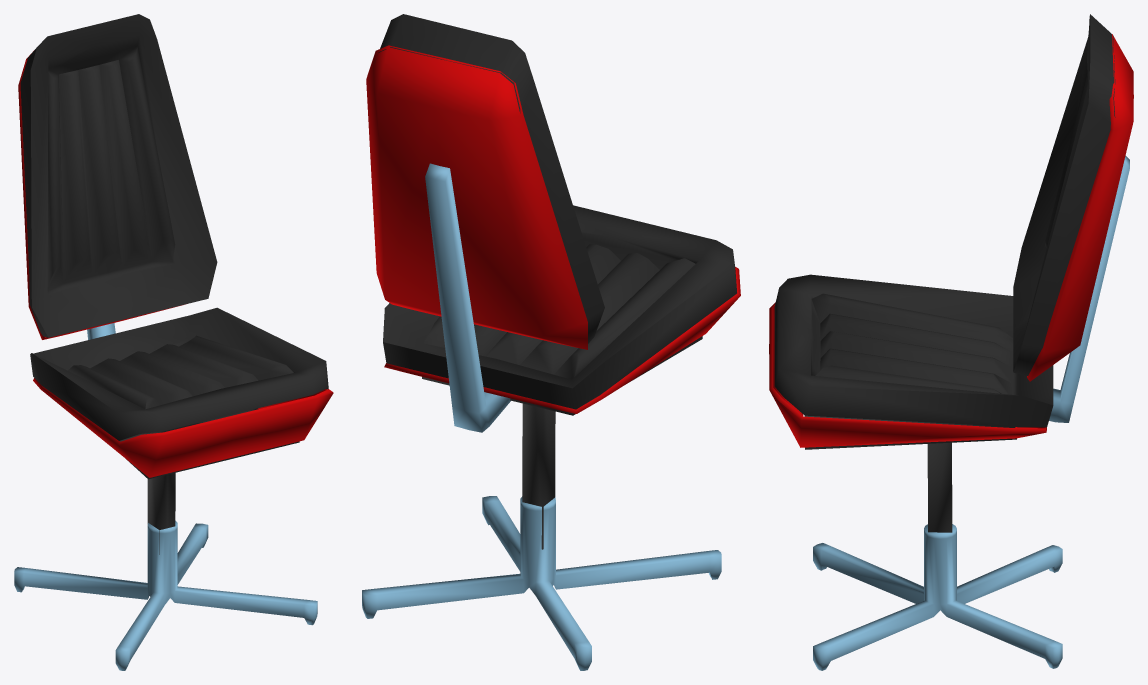
Rendered from Schreibtischstuhl.fbx.
The picture shows the model from 3 angles, left to right: view 1: azimuth 30°, elevation 25°; view 2: azimuth 150°, elevation 25°; view 3: azimuth 270°, elevation 25°; orthographic projection. The views are drawn at different scales.
Parts seen in each view (by area): view 1: B_rostuhl; view 2: B_rostuhl; view 3: B_rostuhl.
Boxes of the visible parts, x1,y1,x2,y2 form: B_rostuhl: (14, 14, 333, 670); B_rostuhl: (362, 14, 740, 670); B_rostuhl: (769, 14, 1133, 670).
Size of the model in its own units: 1.76 by 4.16 by 2.37.
